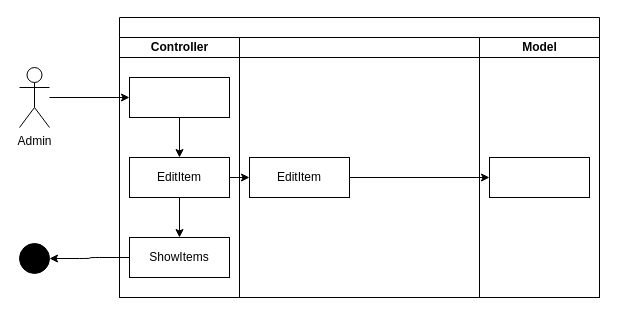
The diagram is 617 pixels wide and 315 high, and some of its shapes have lost their labels. Here are the shapes that lost their labels. From the top down, the box of each, then its label:
(128, 76, 230, 118): Initialize
(238, 36, 480, 298): Business Logic
(488, 156, 590, 198): UpdateItem
